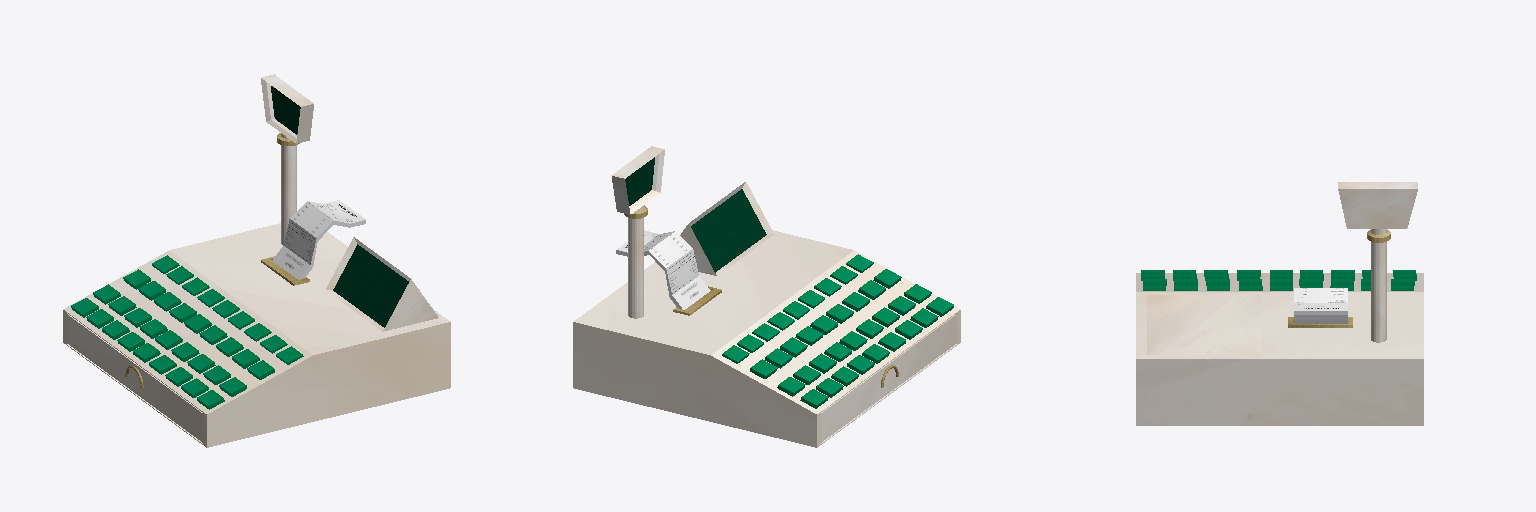
The picture shows the model from 3 angles: view 1: azimuth 30°, elevation 25°; view 2: azimuth 150°, elevation 25°; view 3: azimuth 270°, elevation 25°; orthographic projection.
Parts seen in each view (by area): view 1: CajaRegistradora.001; view 2: CajaRegistradora.001; view 3: CajaRegistradora.001.
Part boxes in pixels (x1,y1,x2,y2): CajaRegistradora.001: (63, 74, 450, 447); CajaRegistradora.001: (573, 146, 960, 447); CajaRegistradora.001: (1136, 182, 1423, 425).
Bounding box in the file's own units: 2.96 × 2.52 × 3.
7 materials, 1 textured.